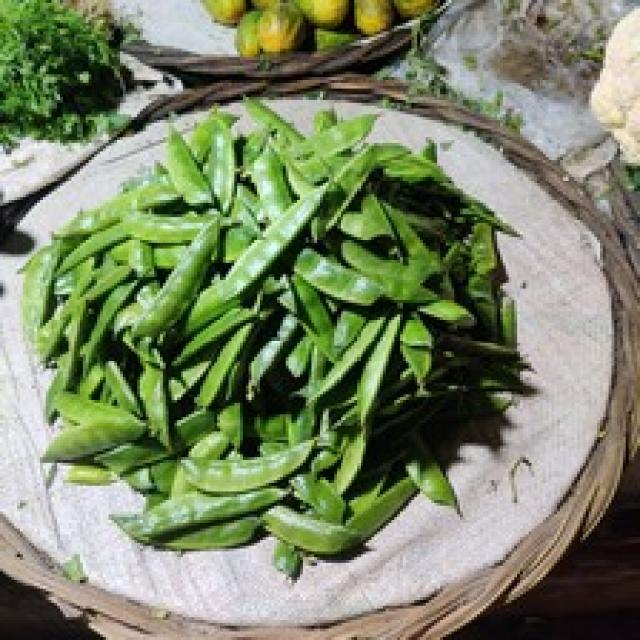Bean: (17, 94, 532, 580)
